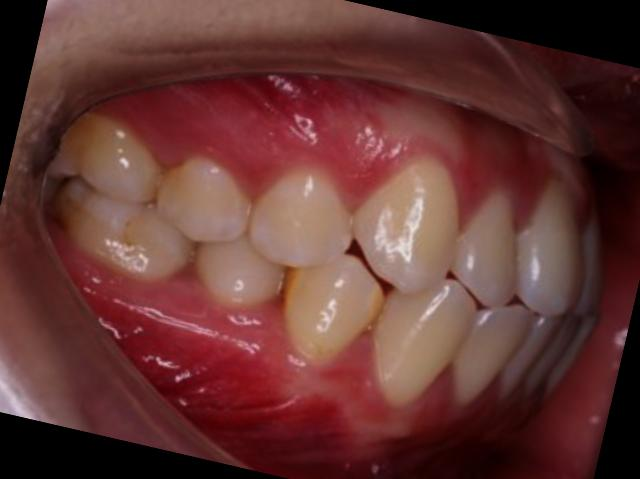canine class II 1/4: (258, 124, 511, 444)
molar class III 1/2: (22, 94, 230, 306)
